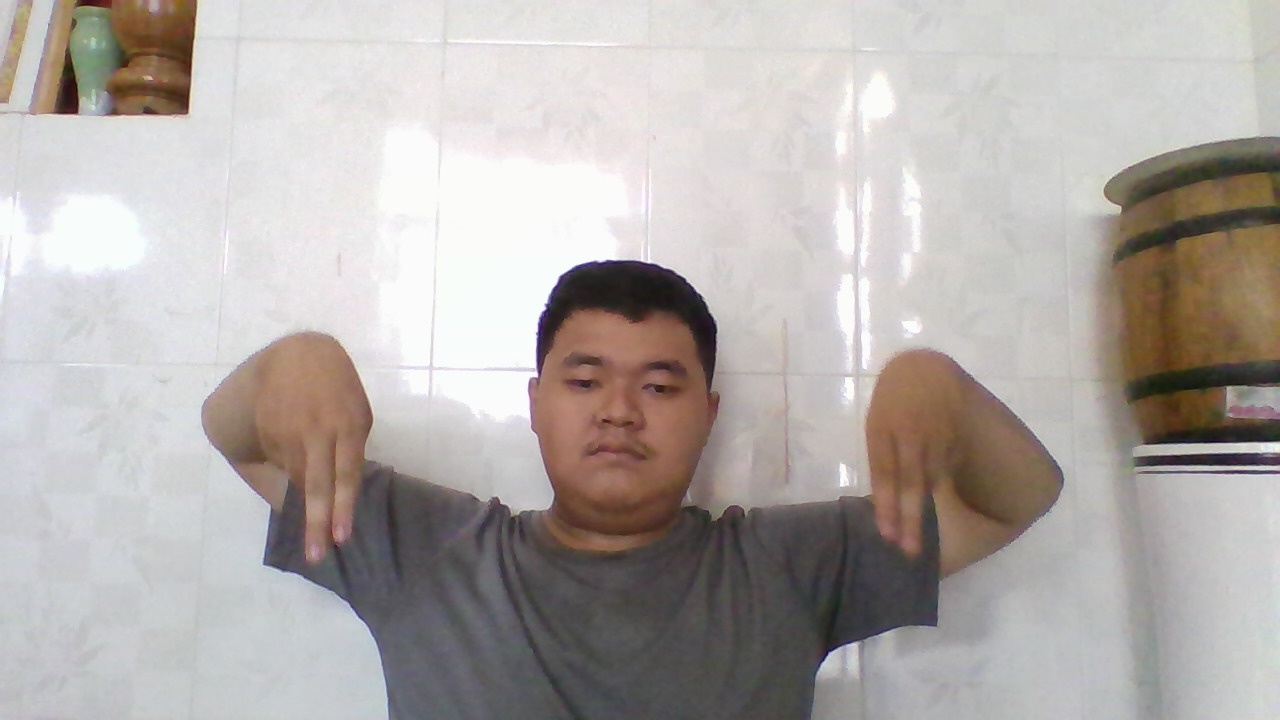N: (245, 324, 372, 573), (861, 344, 971, 562)
